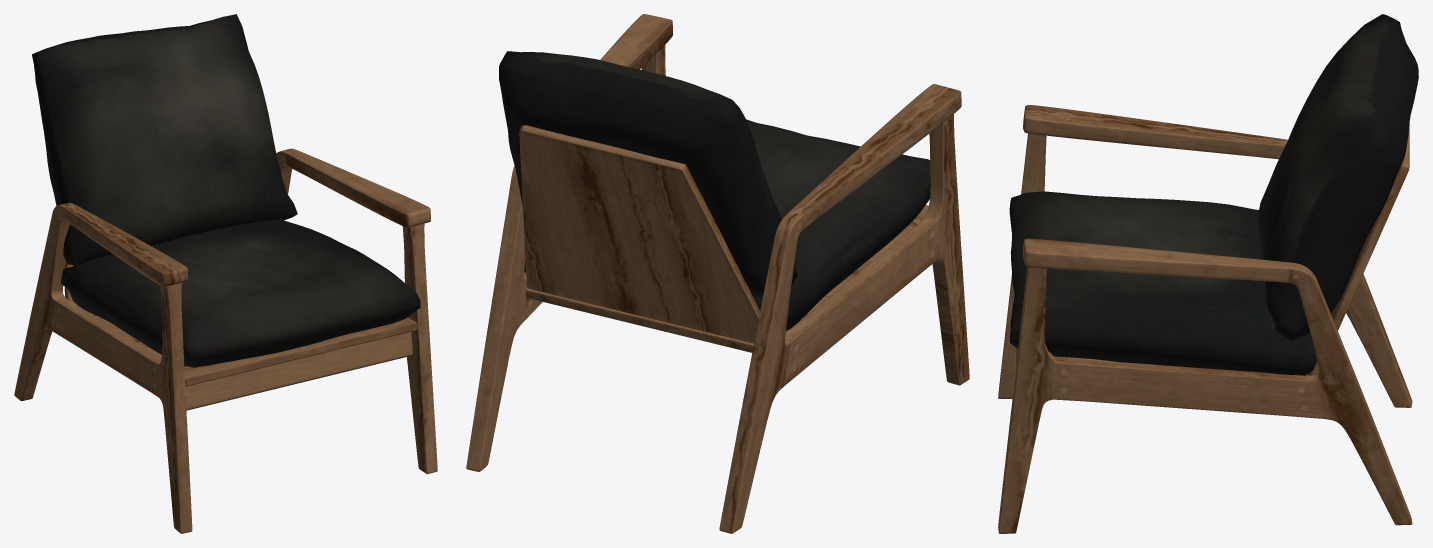
The model's file is modern_arm_chair_01.glb.
3 views of the same model, side by side, from view 1: azimuth 30°, elevation 25°; view 2: azimuth 150°, elevation 25°; view 3: azimuth 270°, elevation 25° (orthographic). The views are drawn at different scales.
Parts seen in each view (by area): view 1: modern_arm_chair_01; view 2: modern_arm_chair_01; view 3: modern_arm_chair_01.
Part boxes in pixels (x1=…): modern_arm_chair_01: x1=14, y1=14, x2=437, y2=533; modern_arm_chair_01: x1=466, y1=14, x2=969, y2=533; modern_arm_chair_01: x1=998, y1=14, x2=1418, y2=533.
Bounding box in the file's own units: 0.8203 × 1.02 × 0.9866.
2 materials, 2 textured.
